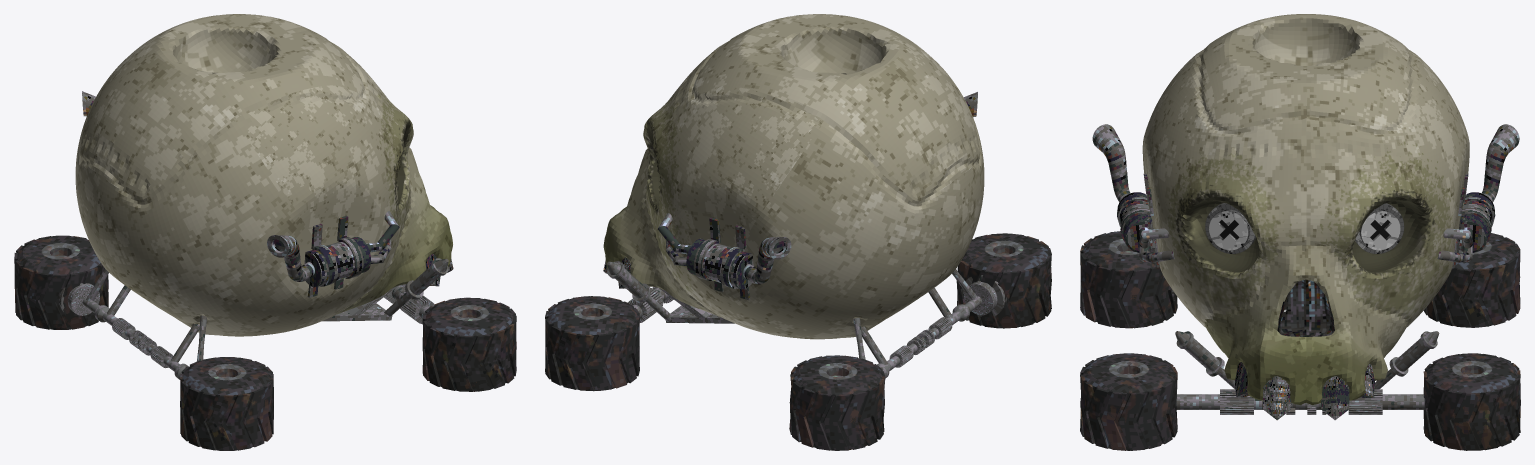
The model's file is enemy_skull1.fbx.
3 renders of one model, left to right at view 1: azimuth 30°, elevation 25°; view 2: azimuth 150°, elevation 25°; view 3: azimuth 270°, elevation 25°, orthographic. The views are drawn at different scales.
Parts seen in each view (by area): view 1: hoved, Hjul_f2, hjul_b2, hjul_b1, bund, udstødning; view 2: hoved, hjul_b1, hjul_f1, hjul_b2, bund, udstødning.001; view 3: hoved, hjul_f1, Hjul_f2, hjul_b2, hjul_b1, bund, udstødning, udstødning.001, Cube.002, øje2, øje1.
Boxes of the visible parts, <box> form: hoved: <box>75,14,452,336</box>; Hjul_f2: <box>422,297,516,391</box>; hjul_b2: <box>180,357,273,450</box>; hjul_b1: <box>14,235,108,329</box>; bund: <box>59,258,448,379</box>; udstødning: <box>267,211,399,297</box>; hoved: <box>603,14,984,339</box>; hjul_b1: <box>789,355,885,450</box>; hjul_f1: <box>545,296,639,391</box>; hjul_b2: <box>956,233,1051,328</box>; bund: <box>607,261,1006,378</box>; udstødning.001: <box>658,213,791,300</box>; hoved: <box>1142,14,1469,404</box>; hjul_f1: <box>1423,353,1520,450</box>; Hjul_f2: <box>1080,353,1177,450</box>; hjul_b2: <box>1080,231,1177,328</box>; hjul_b1: <box>1423,233,1520,327</box>; bund: <box>1171,289,1439,414</box>; udstødning: <box>1092,124,1174,267</box>; udstødning.001: <box>1437,124,1519,267</box>; Cube.002: <box>1235,362,1374,420</box>; øje2: <box>1205,203,1255,253</box>; øje1: <box>1355,203,1404,253</box>.
Bounding box in the file's own units: 310 × 264 × 336.
11 materials, 11 textured.
